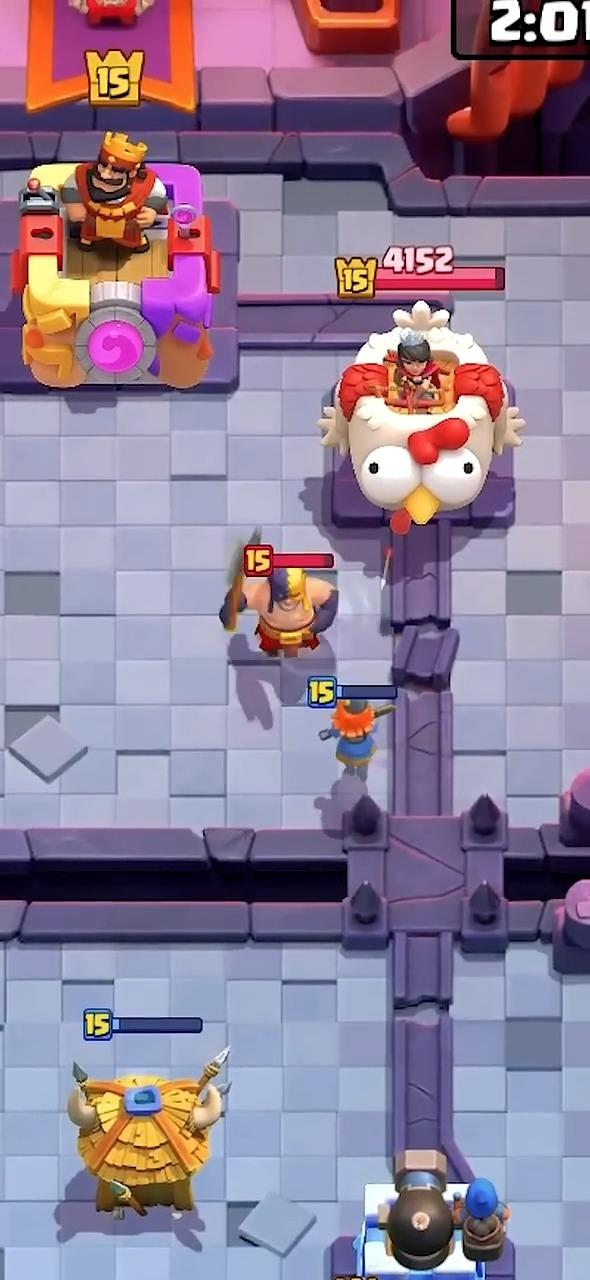executioner: (219, 564, 338, 657)
goblin hut: (67, 1048, 228, 1219)
valkyrie: (318, 697, 394, 782)
